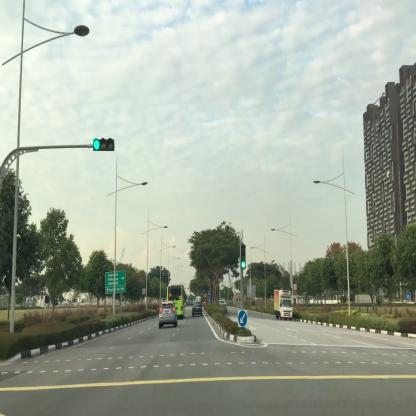green_traffic_light: (93, 137, 114, 152), (240, 243, 246, 270)
